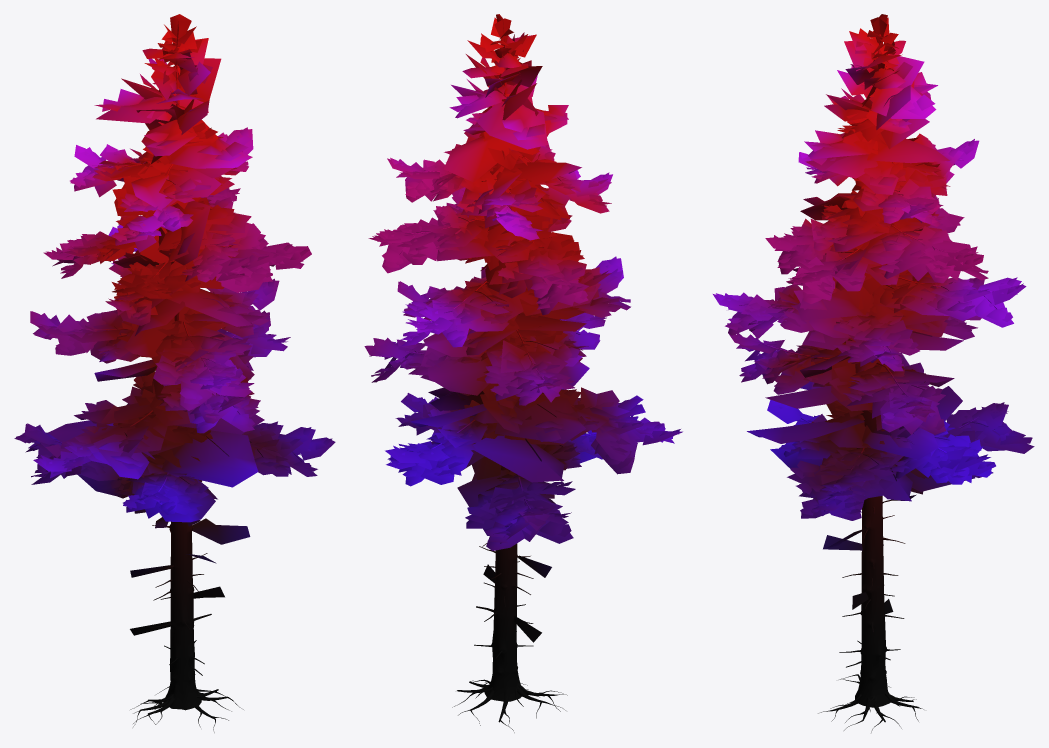
The model's file is Fir_04_Standalone.FBX.
3 renders of one model, left to right at view 1: azimuth 30°, elevation 25°; view 2: azimuth 150°, elevation 25°; view 3: azimuth 270°, elevation 25°, orthographic.
Visible parts, largest first — view 1: Fir_04_Standalone_LOD0; view 2: Fir_04_Standalone_LOD0; view 3: Fir_04_Standalone_LOD0.
Part boxes in pixels (<box>): Fir_04_Standalone_LOD0: <box>14,14,335,732</box>; Fir_04_Standalone_LOD0: <box>364,14,682,732</box>; Fir_04_Standalone_LOD0: <box>713,14,1034,732</box>.
Size of what is drawn, in the model's own units: 8777 by 20398 by 8485.
